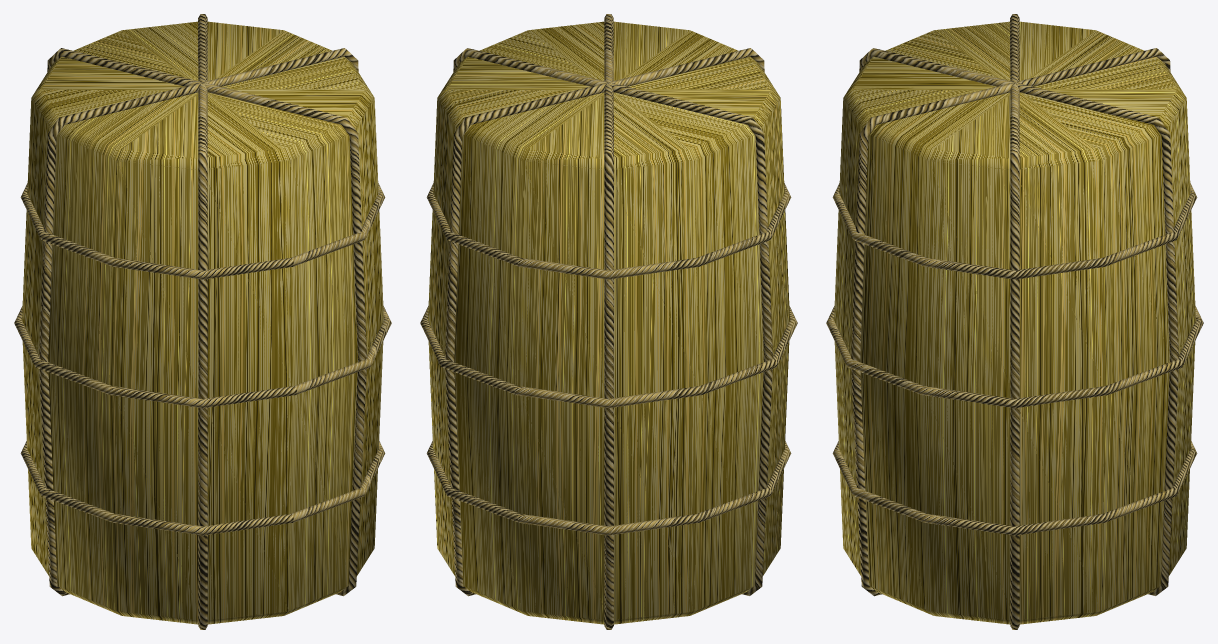
Rendered from Komedawara02.fbx.
The picture shows the model from 3 angles, left to right: view 1: azimuth 30°, elevation 25°; view 2: azimuth 150°, elevation 25°; view 3: azimuth 270°, elevation 25°; orthographic projection.
Visible parts, largest first — view 1: Komedawara; view 2: Komedawara; view 3: Komedawara.
Part boxes in pixels (x1,y1,x2,y2): Komedawara: (14, 14, 391, 629); Komedawara: (420, 14, 797, 629); Komedawara: (826, 14, 1203, 629).
Bounding box in the file's own units: 0.5686 × 0.7668 × 0.5499.
1 material, 1 textured.
